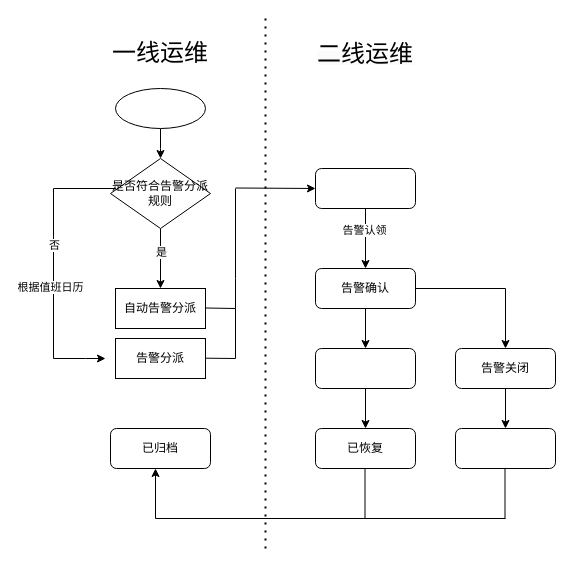
Some shapes in this 573 by 567 pixel diagram are drawn without their labels. Here are the shapes that lost their labels. From the top down, the box of each, then its label:
(114, 88, 206, 128): 活动告警
(314, 168, 416, 208): 未响应
(314, 348, 416, 388): 告警处理
(454, 428, 556, 468): 已关闭
